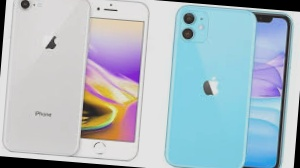iphone: (170, 2, 251, 164), (7, 2, 85, 162)
